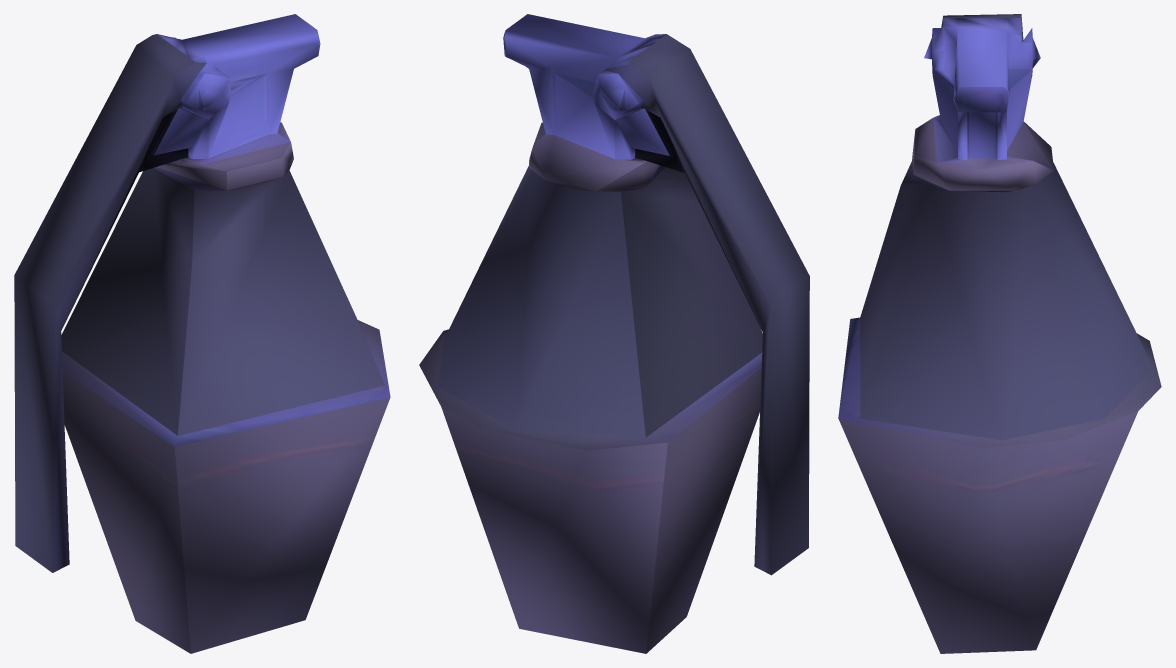
Rendered from model.progressive.glb.
The picture shows the model from 3 angles, left to right: view 1: azimuth 30°, elevation 25°; view 2: azimuth 150°, elevation 25°; view 3: azimuth 270°, elevation 25°; orthographic projection.
Parts seen in each view (by area): view 1: texture_pbr_20250901; view 2: texture_pbr_20250901; view 3: texture_pbr_20250901.
Boxes of the visible parts, <box> form: texture_pbr_20250901: <box>14,14,390,653</box>; texture_pbr_20250901: <box>419,14,809,653</box>; texture_pbr_20250901: <box>838,14,1161,653</box>.
Bounding box in the file's own units: 1.17 × 1.89 × 0.9511.
Materials: 1 (1 with a texture image).
